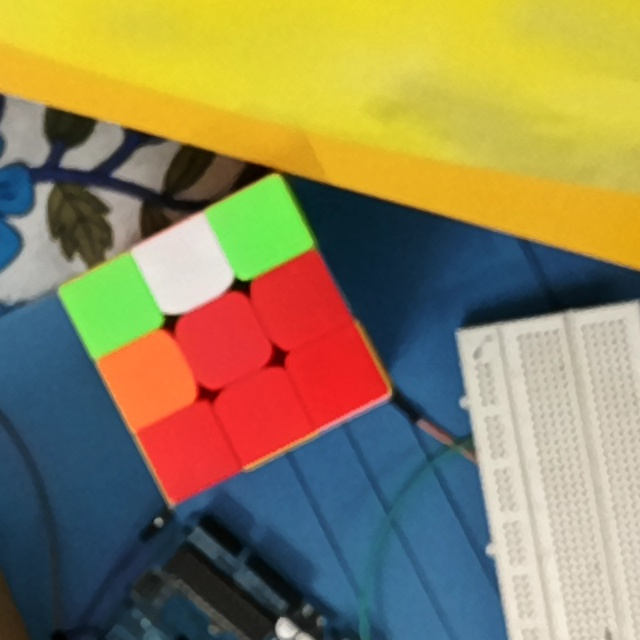tile: (122, 348, 180, 407), (153, 237, 212, 294), (230, 201, 291, 256), (83, 277, 139, 333), (309, 346, 366, 401), (160, 422, 217, 477), (271, 274, 327, 328), (199, 314, 253, 370), (233, 387, 291, 437)
